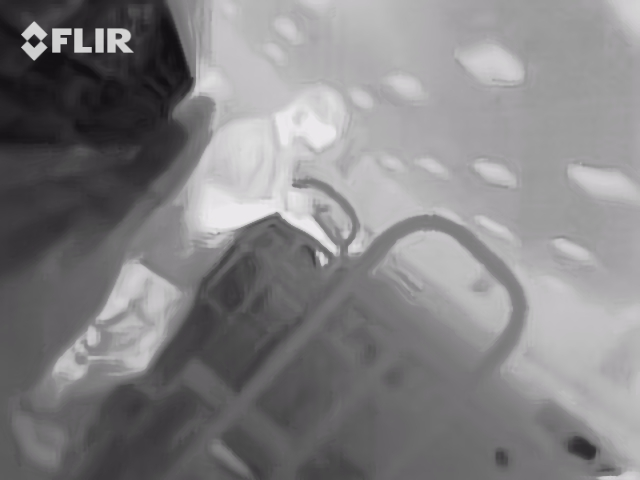head: (291, 84, 341, 161)
